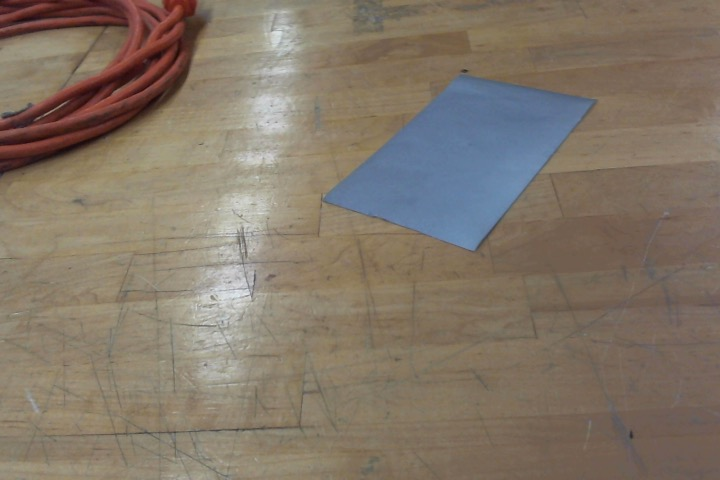Tape: (319, 75, 598, 253)
